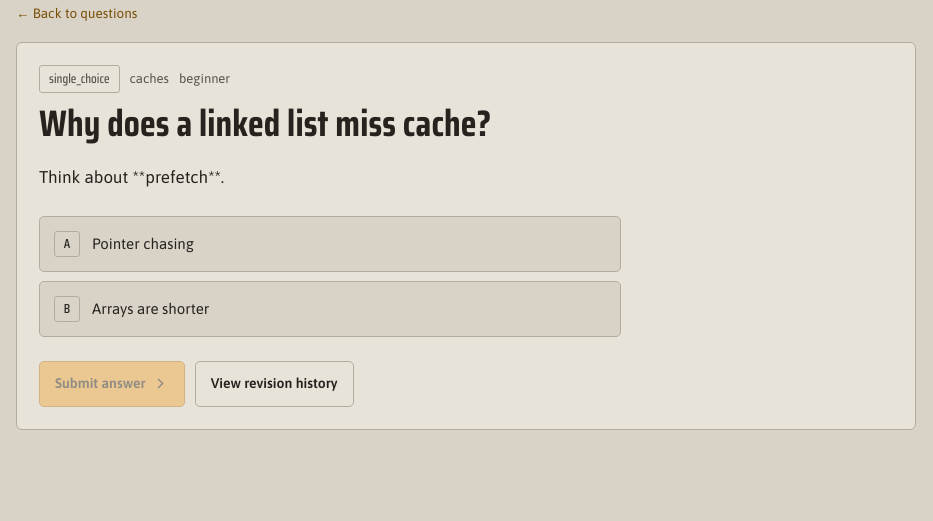
Scenario: QuestionDetailPage › shows a wrong answer without an explanation
What coordinates should you click on to do the following:
click the button "B Arrays are shorter"
I would click on:
 (151, 309)
Its box is [39, 281, 621, 337].
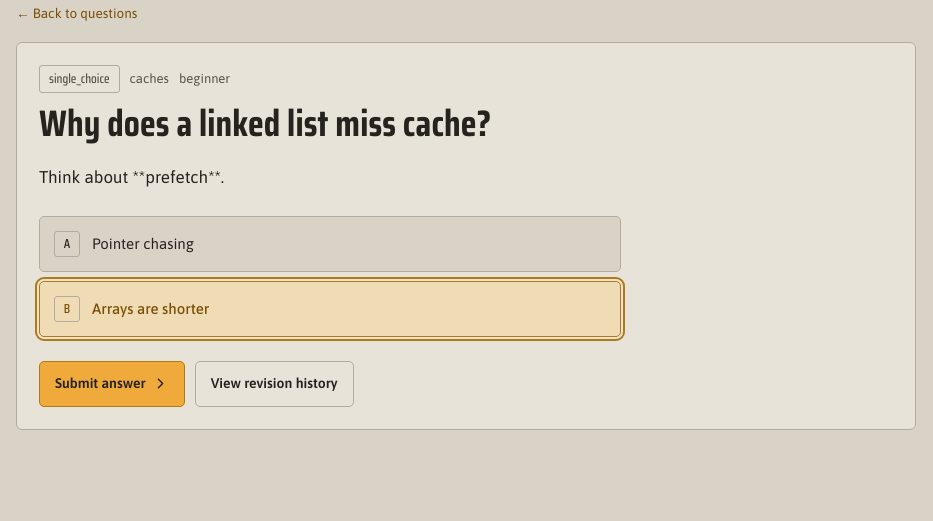
What coordinates should you click on to do the following:
click the button "Submit answer"
I would click on:
 (112, 384)
Its box is [39, 361, 185, 407].
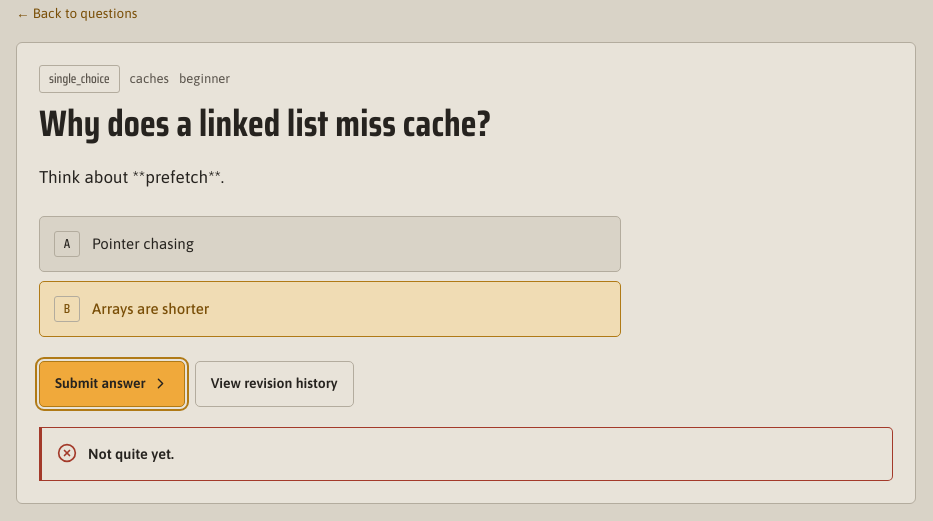
Now the text "Not quite yet." is shown, box [88, 445, 174, 462]
